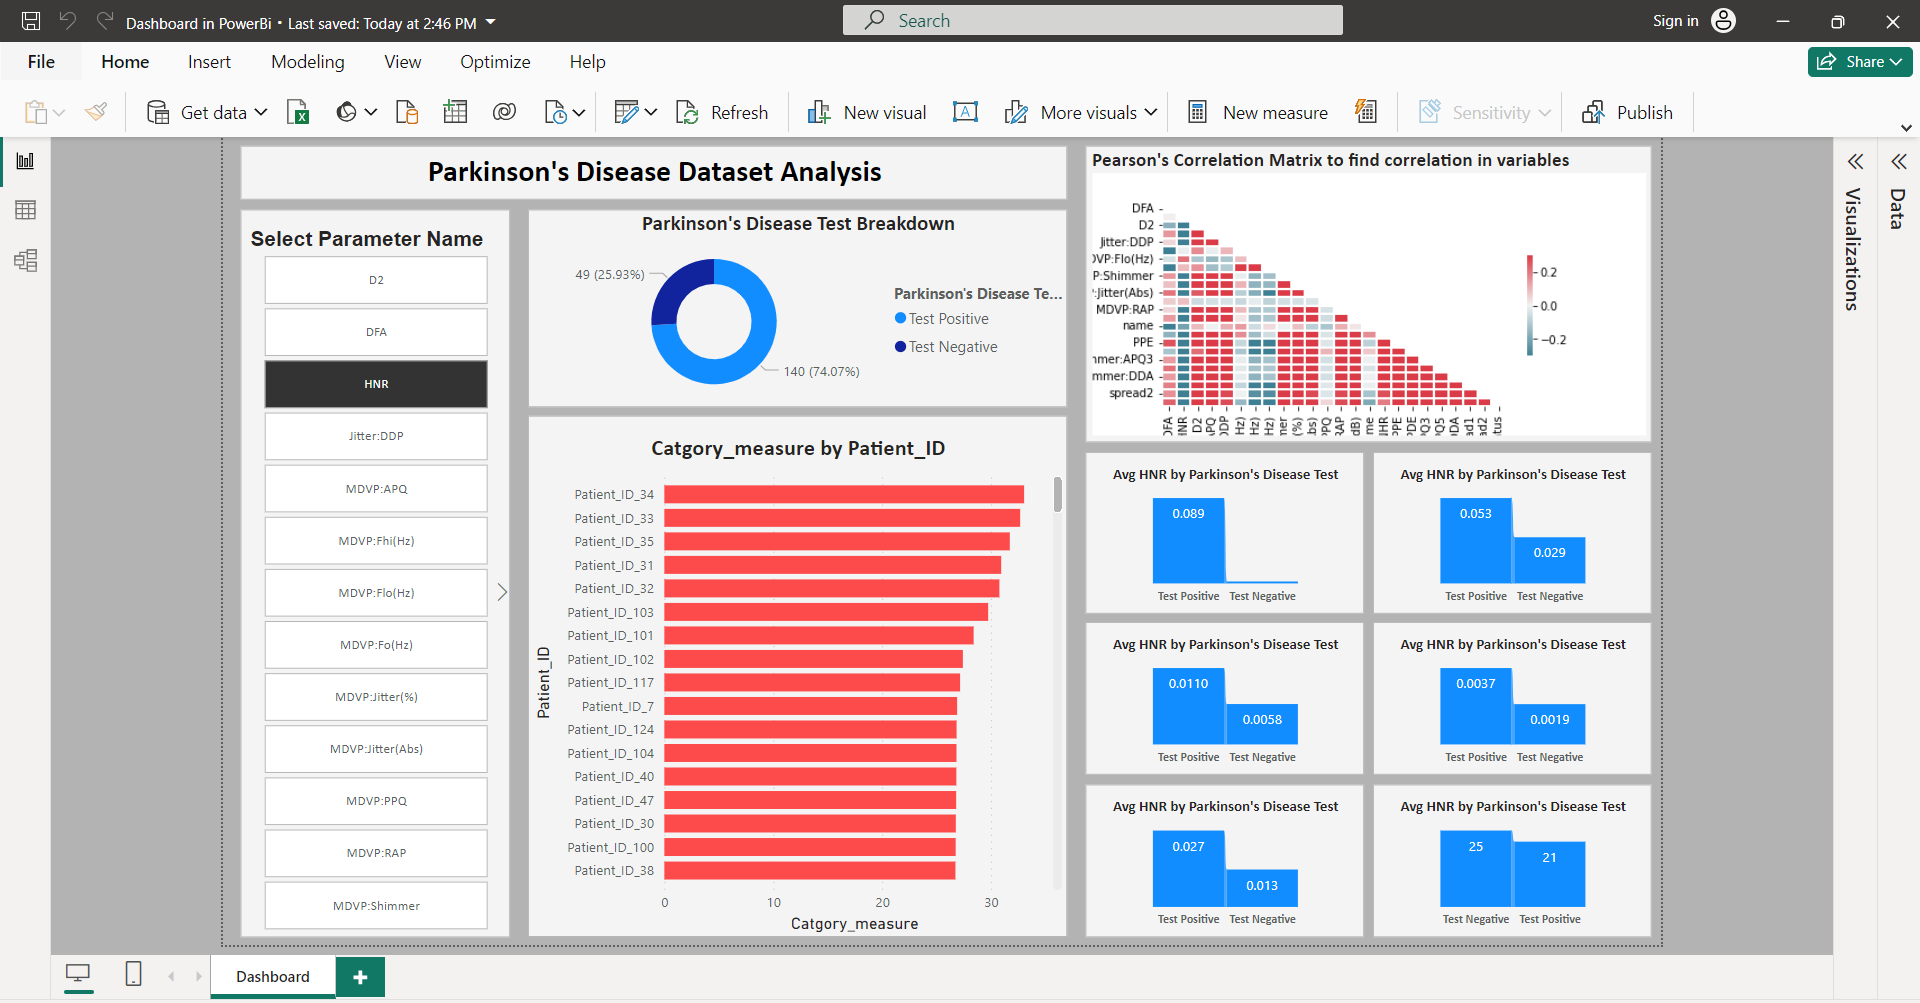

Layout of this report page (visuals, bound fields, positions):
{"tool":"powerbi","page":{"name":"Dashboard","canvas":[1280,720],"ordinal":0},"visuals":[{"type":"pythonVisual","title":"Pearson''s Correlation Matrix to find correlation in variables","fields":{"Values":["cleaned_data.DFA","cleaned_data.HNR","cleaned_data.D2","cleaned_data.MDVP:APQ","cleaned_data.Jitter:DDP","cleaned_data.MDVP:Fhi(Hz)","cleaned_data.MDVP:Flo(Hz)","cleaned_data.MDVP:Fo(Hz)","cleaned_data.MDVP:Shimmer","cleaned_data.MDVP:Jitter(%)","cleaned_data.MDVP:Jitter(Abs)","cleaned_data.MDVP:PPQ"]},"box":[768,8,504,264],"z":0},{"type":"columnChart","title":"Avg HNR by Parkinson''s Disease Test","fields":{"Category":["cleaned_data.Parkinson's Disease Test"],"Y":["Avg(cleaned_data.HNR)"]},"box":[1024,576,248,136],"z":1000},{"type":"columnChart","title":"Avg HNR by Parkinson''s Disease Test","fields":{"Category":["cleaned_data.Parkinson's Disease Test"],"Y":["Avg(cleaned_data.Jitter:DDP)"]},"box":[768,432,248,136],"z":2000},{"type":"columnChart","title":"Avg HNR by Parkinson''s Disease Test","fields":{"Category":["cleaned_data.Parkinson's Disease Test"],"Y":["Avg(cleaned_data.Shimmer:DDA)"]},"box":[1024,280,248,144],"z":3000},{"type":"columnChart","title":"Avg HNR by Parkinson''s Disease Test","fields":{"Category":["cleaned_data.Parkinson's Disease Test"],"Y":["Avg(cleaned_data.MDVP:PPQ)"]},"box":[768,280,248,144],"z":4000},{"type":"columnChart","title":"Avg HNR by Parkinson''s Disease Test","fields":{"Category":["cleaned_data.Parkinson's Disease Test"],"Y":["Avg(cleaned_data.MDVP:RAP)"]},"box":[1024,432,248,136],"z":5000},{"type":"columnChart","title":"Avg HNR by Parkinson''s Disease Test","fields":{"Category":["cleaned_data.Parkinson's Disease Test"],"Y":["Avg(cleaned_data.MDVP:APQ)"]},"box":[768,576,248,136],"z":6000},{"type":"clusteredBarChart","fields":{"Category":["cleaned_data.Patient_ID"],"Y":["Filter_Table.Catgory_measure"]},"box":[272,248,480,464],"z":7000},{"type":"slicer","fields":{"Values":["Filter_Table.Column"]},"box":[16,64,240,648],"z":8000},{"type":"donutChart","title":"Parkinson''s Disease Test Breakdown","fields":{"Y":["CountNonNull(cleaned_data.Parkinson's Disease Test)"],"Category":["cleaned_data.Parkinson's Disease Test"]},"box":[272,64,480,176],"z":9000},{"type":"textbox","box":[16,8,736,48],"z":10000}]}

Visuals, with their boxes on the page's 1280x720 design canvas (x1, y1, x2, y2). These are canvas units, not pixel positions in the 1920x1003 screenshot, which may show the page scaled, cropped or inside an application window:
"Pearson''s Correlation Matrix to find correlation in variables" pythonVisual: detection(768, 8, 1272, 272)
"Avg HNR by Parkinson''s Disease Test" columnChart: detection(1024, 576, 1272, 712)
"Avg HNR by Parkinson''s Disease Test" columnChart: detection(768, 432, 1016, 568)
"Avg HNR by Parkinson''s Disease Test" columnChart: detection(1024, 280, 1272, 424)
"Avg HNR by Parkinson''s Disease Test" columnChart: detection(768, 280, 1016, 424)
"Avg HNR by Parkinson''s Disease Test" columnChart: detection(1024, 432, 1272, 568)
"Avg HNR by Parkinson''s Disease Test" columnChart: detection(768, 576, 1016, 712)
clusteredBarChart - cleaned_data.Patient_ID x Filter_Table.Catgory_measure: detection(272, 248, 752, 712)
slicer - Filter_Table.Column: detection(16, 64, 256, 712)
"Parkinson''s Disease Test Breakdown" donutChart: detection(272, 64, 752, 240)
textbox: detection(16, 8, 752, 56)
